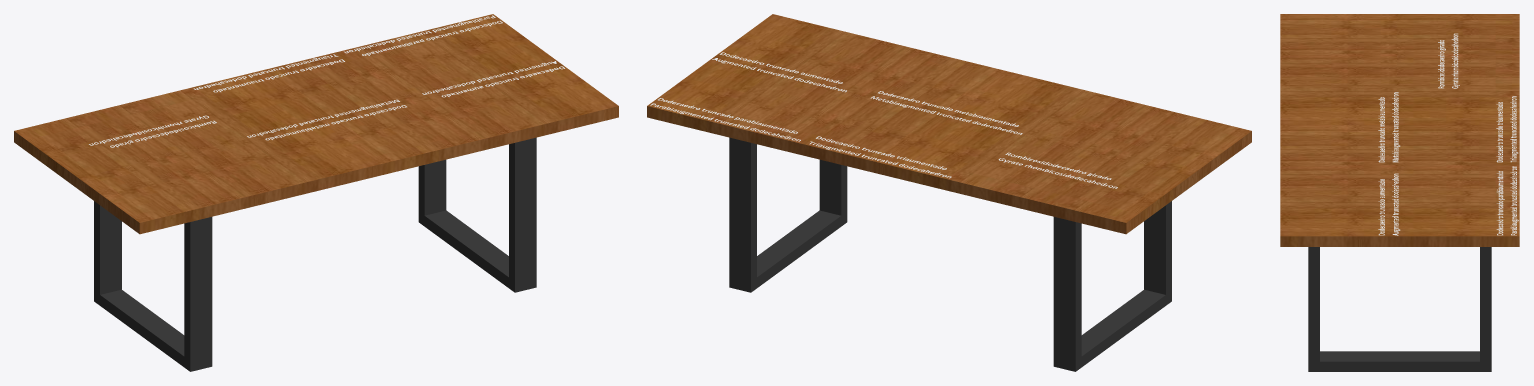
The model's file is johnson3b.glb.
3 renders of one model, left to right at view 1: azimuth 30°, elevation 25°; view 2: azimuth 150°, elevation 25°; view 3: azimuth 270°, elevation 25°, orthographic. The views are drawn at different scales.
Parts seen in each view (by area): view 1: object 1, Composant#1 (×2), Dodecaedro trunc#2, Dodecaedro trunc#1, Dodecaedro trunc#3, Dodecaedro trunc, Rombicosidodecae; view 2: object 1, Composant#1 (×2), Dodecaedro trunc#2, Dodecaedro trunc#1, Dodecaedro trunc#3, Dodecaedro trunc, Rombicosidodecae; view 3: object 1, Composant#1, Dodecaedro trunc#2, Dodecaedro trunc#1, Dodecaedro trunc#3, Dodecaedro trunc, Rombicosidodecae.
Boxes of the visible parts, x1=… form: object 1: x1=14, y1=14, x2=618, y2=234; Composant#1 (×2): x1=94, y1=137, x2=536, y2=371; Dodecaedro trunc#2: x1=247, y1=99, x2=406, y2=140; Dodecaedro trunc#1: x1=344, y1=15, x2=502, y2=55; Dodecaedro trunc#3: x1=193, y1=54, x2=344, y2=92; Dodecaedro trunc: x1=422, y1=61, x2=564, y2=97; Rombicosidodecae: x1=89, y1=115, x2=216, y2=147; object 1: x1=647, y1=14, x2=1251, y2=234; Composant#1 (×2): x1=729, y1=137, x2=1171, y2=371; Dodecaedro trunc#2: x1=870, y1=91, x2=1022, y2=134; Dodecaedro trunc#1: x1=650, y1=98, x2=800, y2=141; Dodecaedro trunc#3: x1=809, y1=136, x2=951, y2=178; Dodecaedro trunc: x1=712, y1=52, x2=846, y2=92; Rombicosidodecae: x1=998, y1=152, x2=1117, y2=188; object 1: x1=1280, y1=14, x2=1519, y2=246; Composant#1: x1=1308, y1=247, x2=1491, y2=371; Dodecaedro trunc#2: x1=1378, y1=92, x2=1400, y2=162; Dodecaedro trunc#1: x1=1496, y1=166, x2=1518, y2=235; Dodecaedro trunc#3: x1=1496, y1=96, x2=1518, y2=162; Dodecaedro trunc: x1=1378, y1=173, x2=1400, y2=235; Rombicosidodecae: x1=1438, y1=33, x2=1459, y2=88.
Bounding box in the file's own units: 2.2 × 0.771 × 1.
3 materials, 1 textured.
